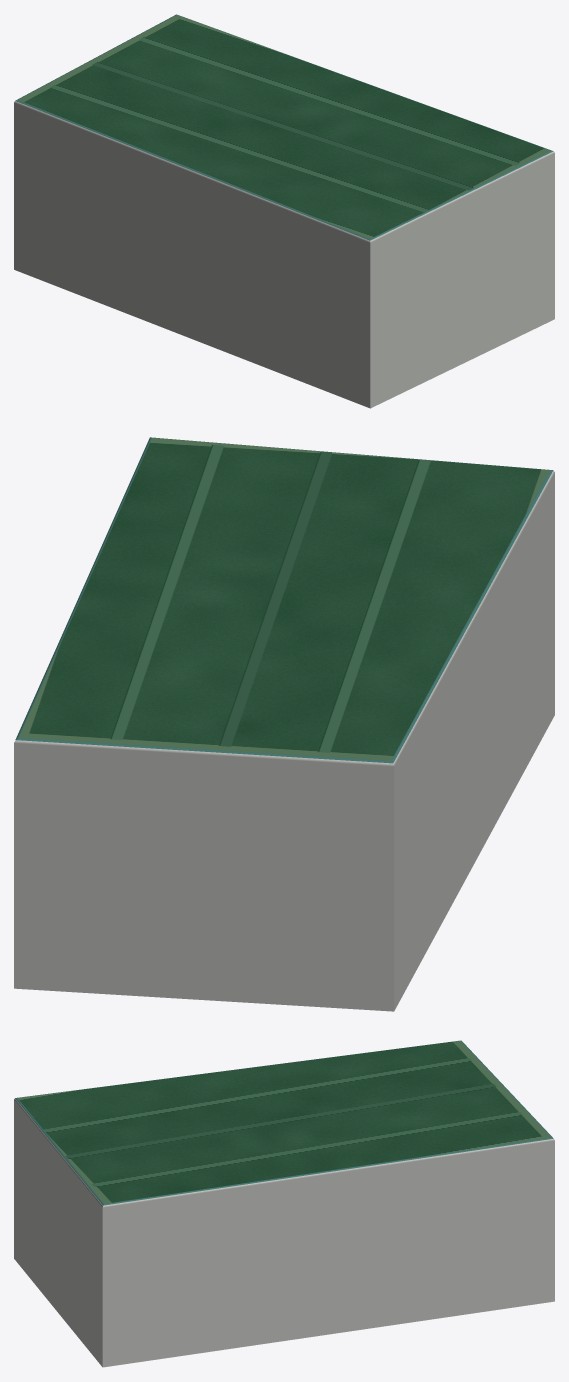
File: intact.glb
3 views of the same model, one above another, from view 1: azimuth 30°, elevation 25°; view 2: azimuth 150°, elevation 25°; view 3: azimuth 270°, elevation 25° (orthographic). The views are drawn at different scales.
Parts seen in each view (by area): view 1: SM_gh53_Intact_00; view 2: SM_gh53_Intact_00; view 3: SM_gh53_Intact_00.
Boxes of the visible parts, left/top/right/bottom form: SM_gh53_Intact_00: left=14, top=14, right=554, bottom=408; SM_gh53_Intact_00: left=14, top=437, right=554, bottom=1011; SM_gh53_Intact_00: left=14, top=1040, right=554, bottom=1367.
Size of the model in its own units: 1.6 by 0.7329 by 2.2.
3 materials, 1 textured.
